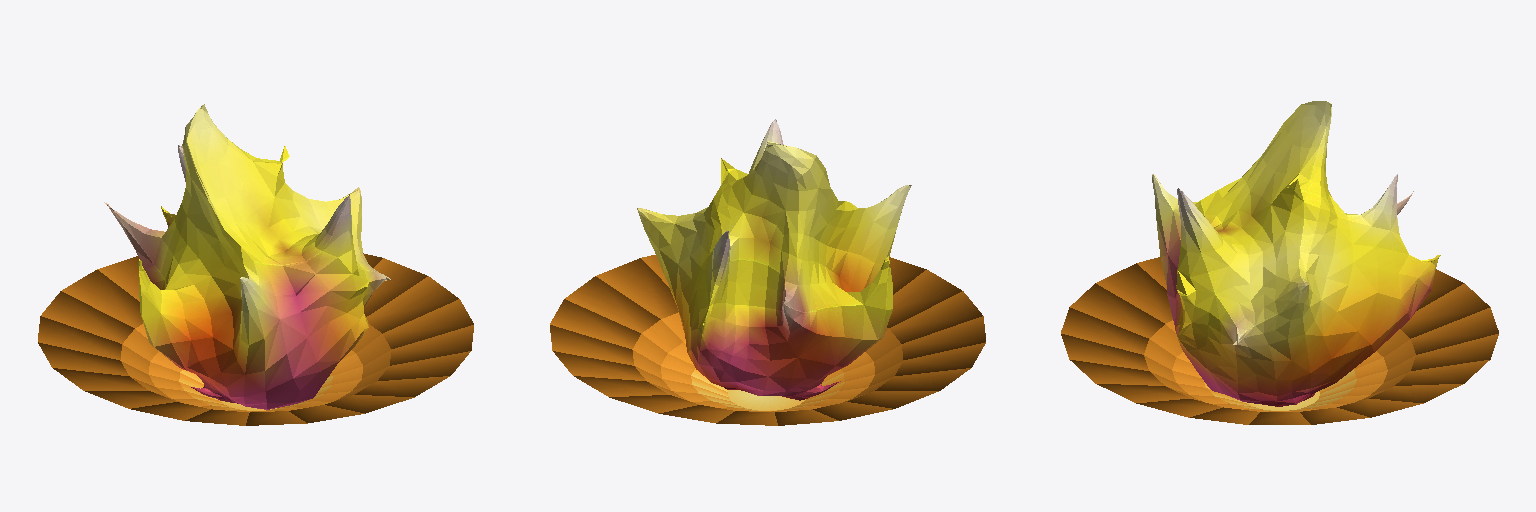
3 renders of one model, left to right at view 1: azimuth 30°, elevation 25°; view 2: azimuth 150°, elevation 25°; view 3: azimuth 270°, elevation 25°, orthographic.
Visible parts, largest first — view 1: PM3D_PolyMesh3D_4; view 2: PM3D_PolyMesh3D_4; view 3: PM3D_PolyMesh3D_4.
Part boxes in pixels (bbox=[...]): PM3D_PolyMesh3D_4: bbox=[38, 104, 473, 425]; PM3D_PolyMesh3D_4: bbox=[550, 119, 985, 425]; PM3D_PolyMesh3D_4: bbox=[1061, 101, 1498, 424].
Bounding box in the file's own units: 48.85 × 34.63 × 49.35.
Materials: 1 (1 with a texture image).